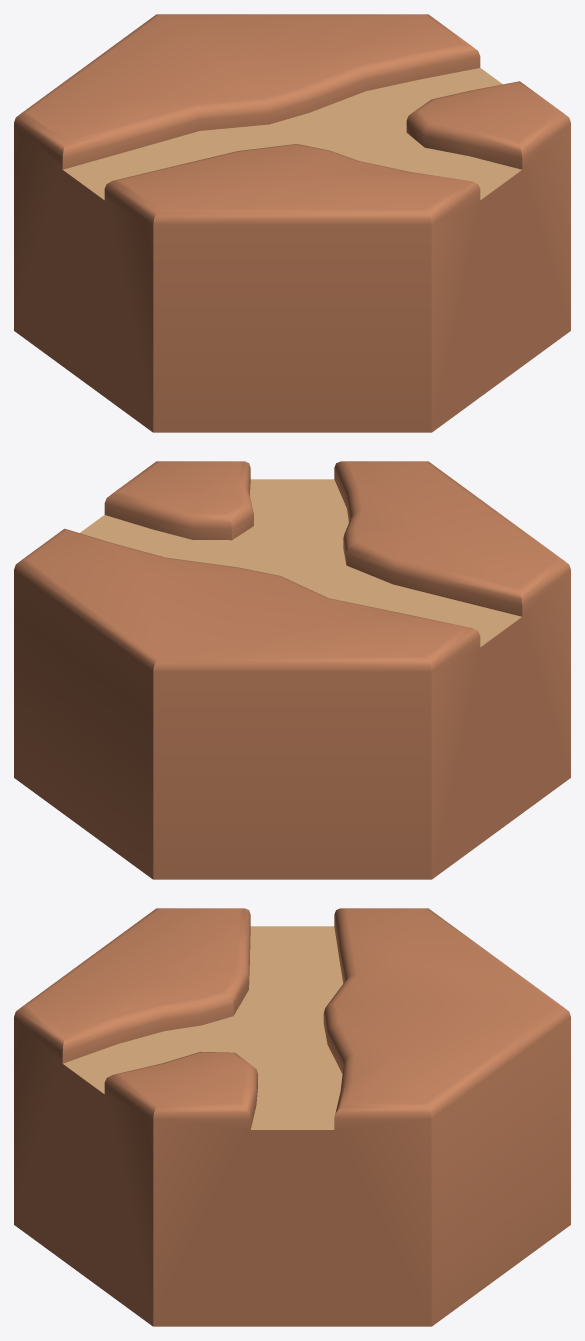
Rendered from hex_rock_roadE.glb.
3 renders of one model, top to bottom at view 1: azimuth 30°, elevation 25°; view 2: azimuth 150°, elevation 25°; view 3: azimuth 270°, elevation 25°, orthographic.
Parts seen in each view (by area): view 1: hex_rock_roadE; view 2: hex_rock_roadE; view 3: hex_rock_roadE.
Boxes of the visible parts, x1=… form: hex_rock_roadE: x1=14, y1=14, x2=570, y2=432; hex_rock_roadE: x1=14, y1=461, x2=570, y2=879; hex_rock_roadE: x1=14, y1=908, x2=570, y2=1326.
Size of the model in its own units: 2 by 1 by 2.31.
